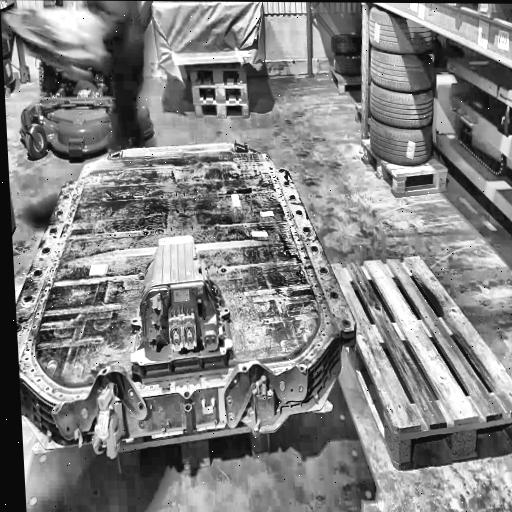b_casing: (16, 139, 357, 417)
bms_unit: (129, 237, 233, 370)
